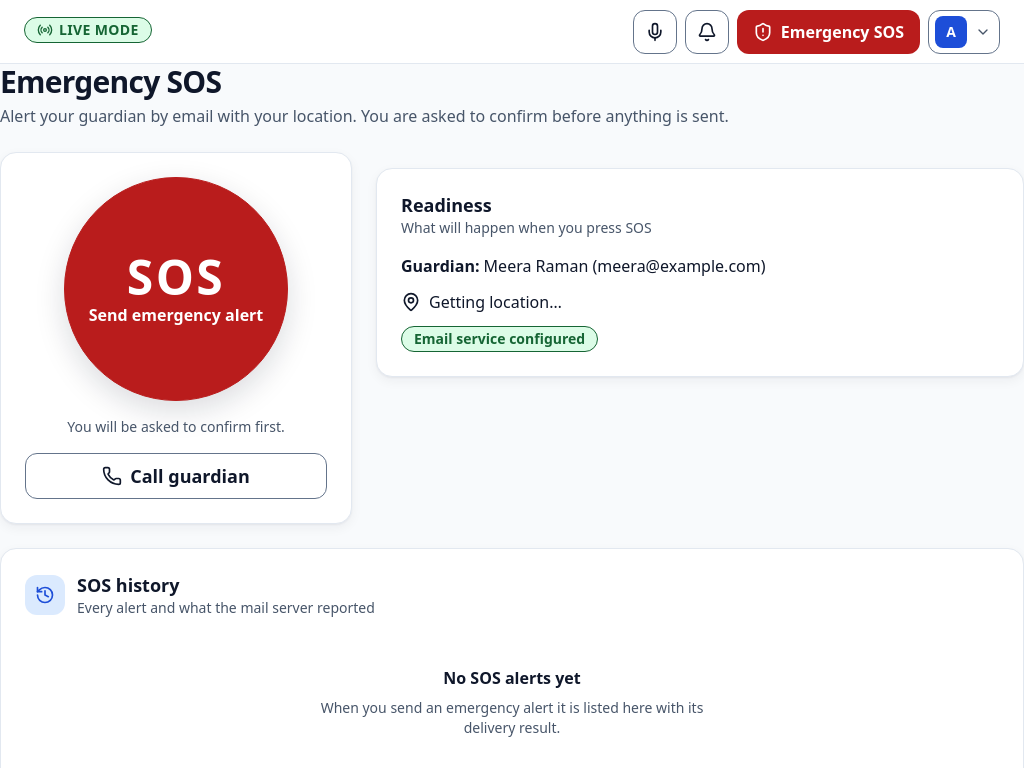
Test: SOS confirm and send › cancel sends nothing
Click the button "SOS Send emergency alert". click: (176, 289)
box: [64,177,288,401]
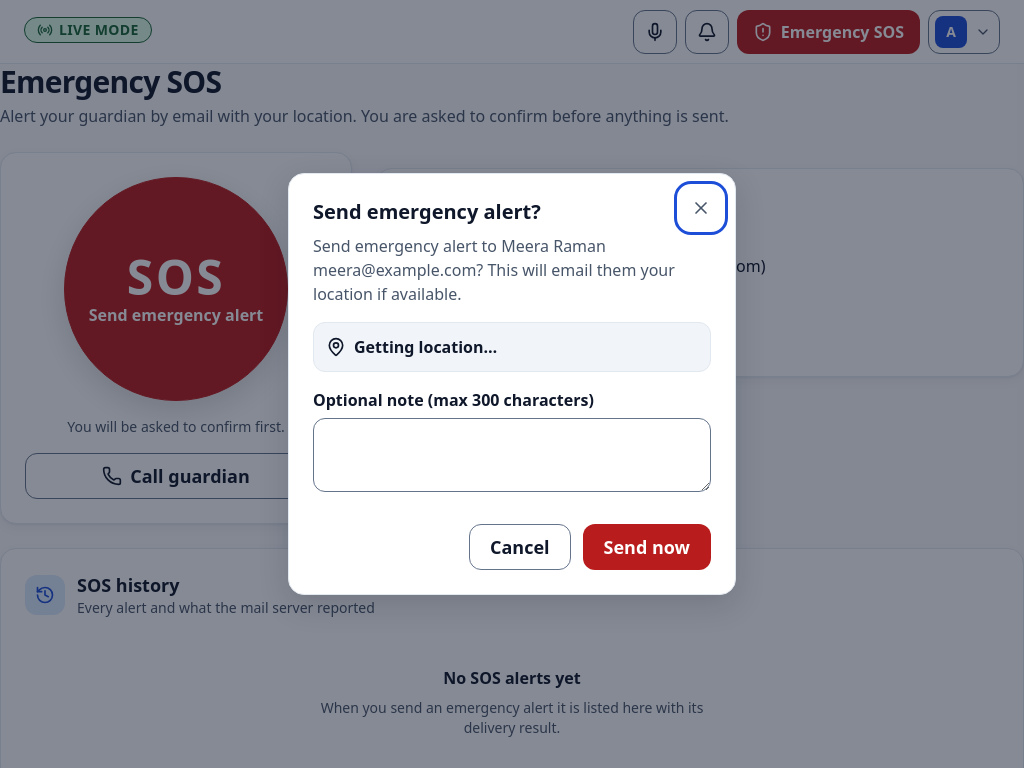
Click the button "Cancel". click: (520, 547)
box: [469,524,570,570]
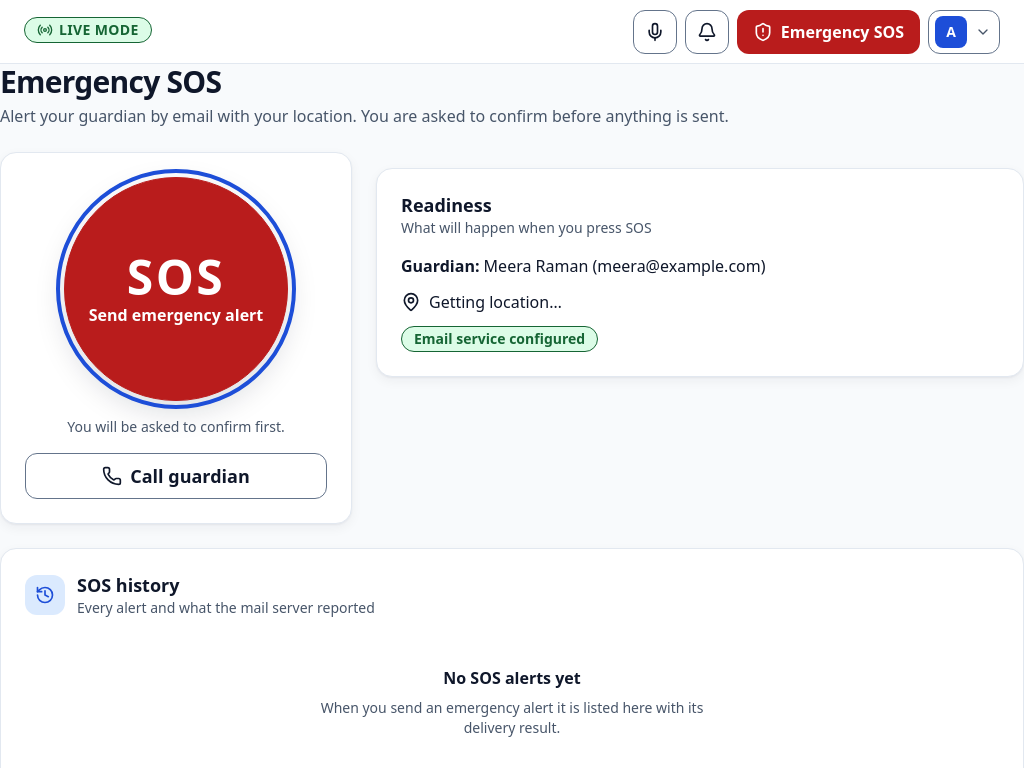
Expected: the dialog is gone
